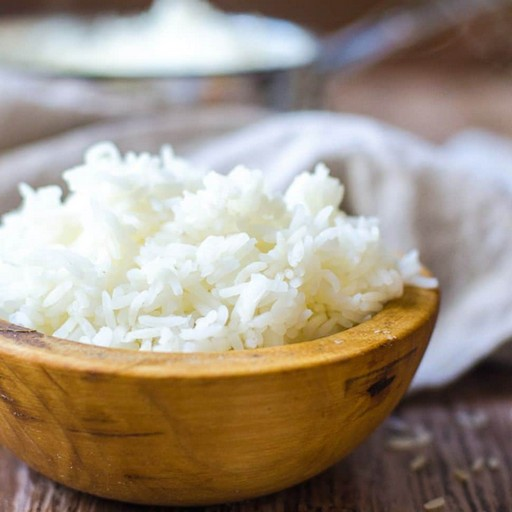rice: (76, 182, 318, 328)
